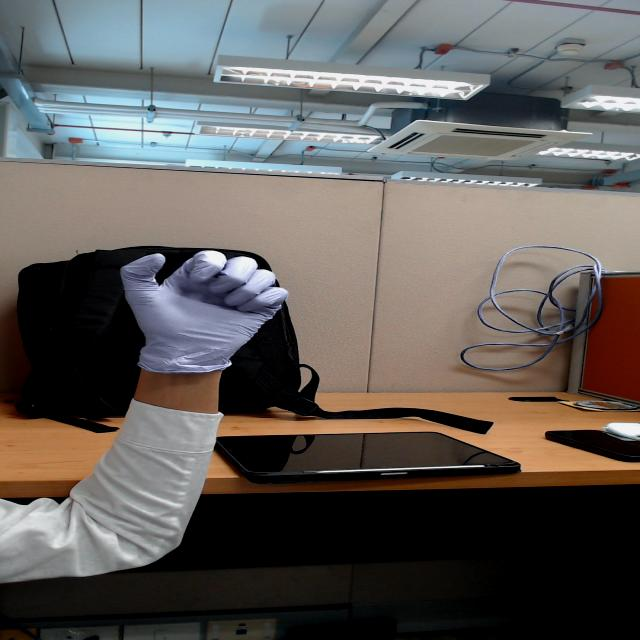glove: (94, 248, 319, 358)
